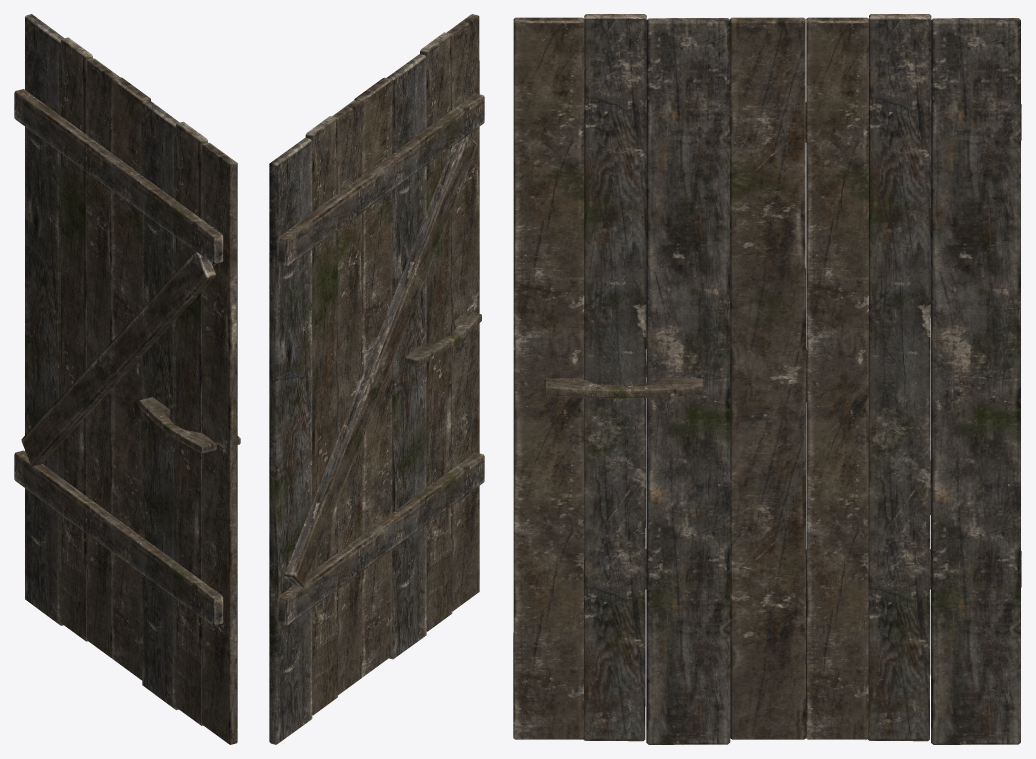
Rendered from Wood_Door_A.fbx.
The picture shows the model from 3 angles, left to right: view 1: azimuth 30°, elevation 25°; view 2: azimuth 150°, elevation 25°; view 3: azimuth 270°, elevation 25°; orthographic projection. The views are drawn at different scales.
Parts seen in each view (by area): view 1: Wood_Door_A_LOD0; view 2: Wood_Door_A_LOD0; view 3: Wood_Door_A_LOD0.
Part boxes in pixels (x1=…): Wood_Door_A_LOD0: x1=14, y1=14, x2=240, y2=744; Wood_Door_A_LOD0: x1=269, y1=14, x2=484, y2=744; Wood_Door_A_LOD0: x1=513, y1=14, x2=1021, y2=744.
Size of what is drawn, in the model's own units: 16.73 by 191 by 121.
